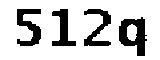1: (50, 4, 77, 50)
2: (84, 5, 113, 49)
5: (14, 6, 44, 50)
q: (112, 14, 150, 58)
